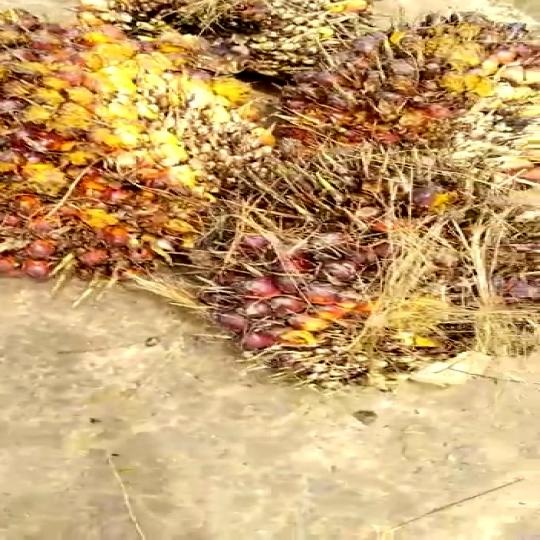masak: (212, 162, 540, 402), (0, 11, 233, 268), (252, 0, 540, 153)
